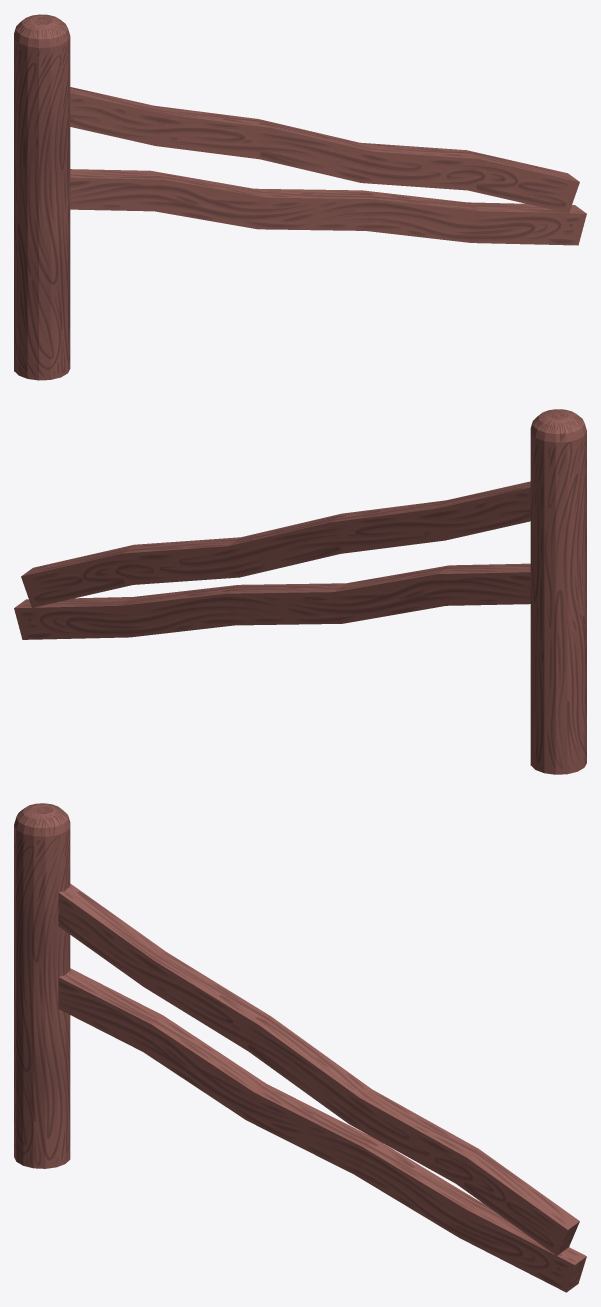
Rendered from Fence-Broken.fbx.
3 views of the same model, one above another, from view 1: azimuth 30°, elevation 25°; view 2: azimuth 150°, elevation 25°; view 3: azimuth 330°, elevation 25° (orthographic).
Parts seen in each view (by area): view 1: Fence 2; view 2: Fence 2; view 3: Fence 2.
Part boxes in pixels (bbox=[...]): Fence 2: bbox=[14, 14, 586, 380]; Fence 2: bbox=[14, 409, 586, 774]; Fence 2: bbox=[14, 803, 586, 1292].
Size of the model in its own units: 170 by 101 by 14.7.
